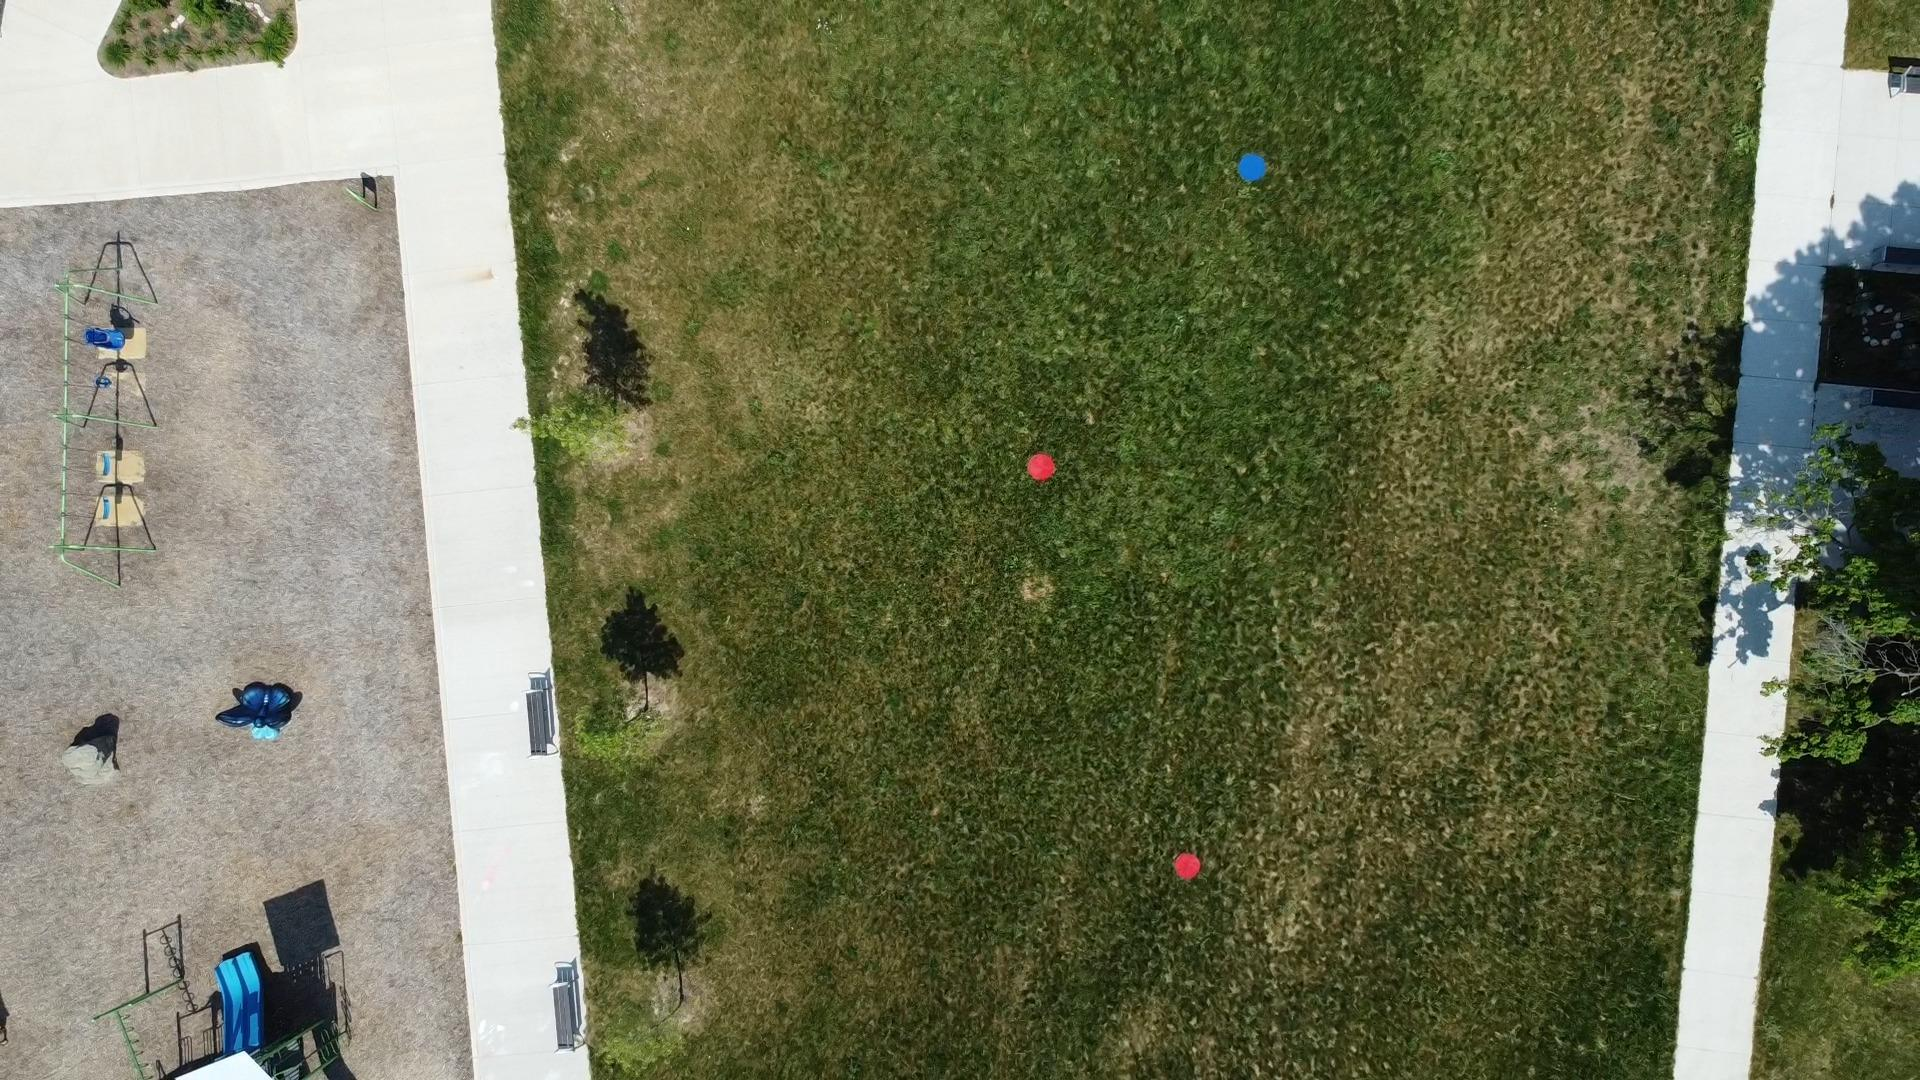Blue: (1238, 153, 1266, 181)
Red: (1027, 454, 1055, 481), (1174, 852, 1200, 878)
